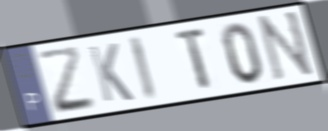0: (220, 20, 265, 88)
I: (126, 33, 159, 103)
K: (86, 41, 136, 105)
N: (257, 8, 316, 84)
T: (174, 25, 213, 94)
Z: (35, 43, 99, 117)
